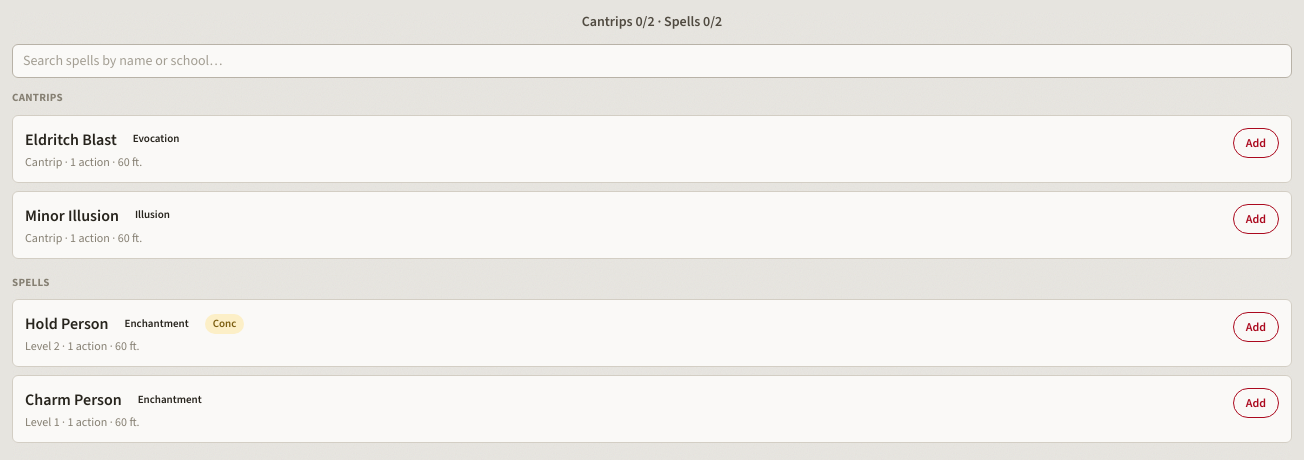
SpellPicker › shows the empty state when nothing matches
Step 1. Type "zzz" into the search field → (652, 61), box [12, 44, 1292, 78]
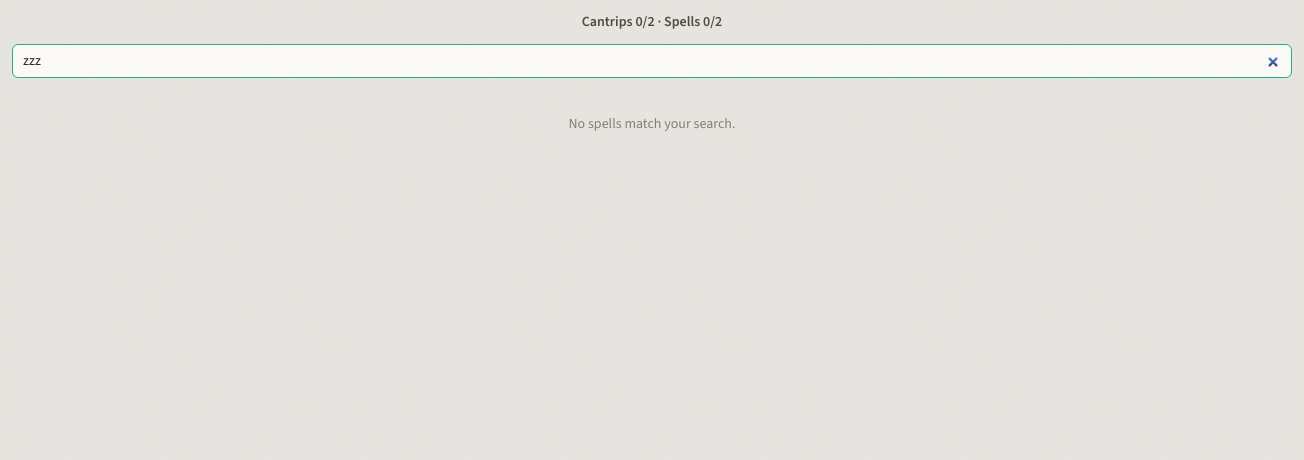
Now the text "No spells match your search." is shown, box [569, 114, 736, 133]
